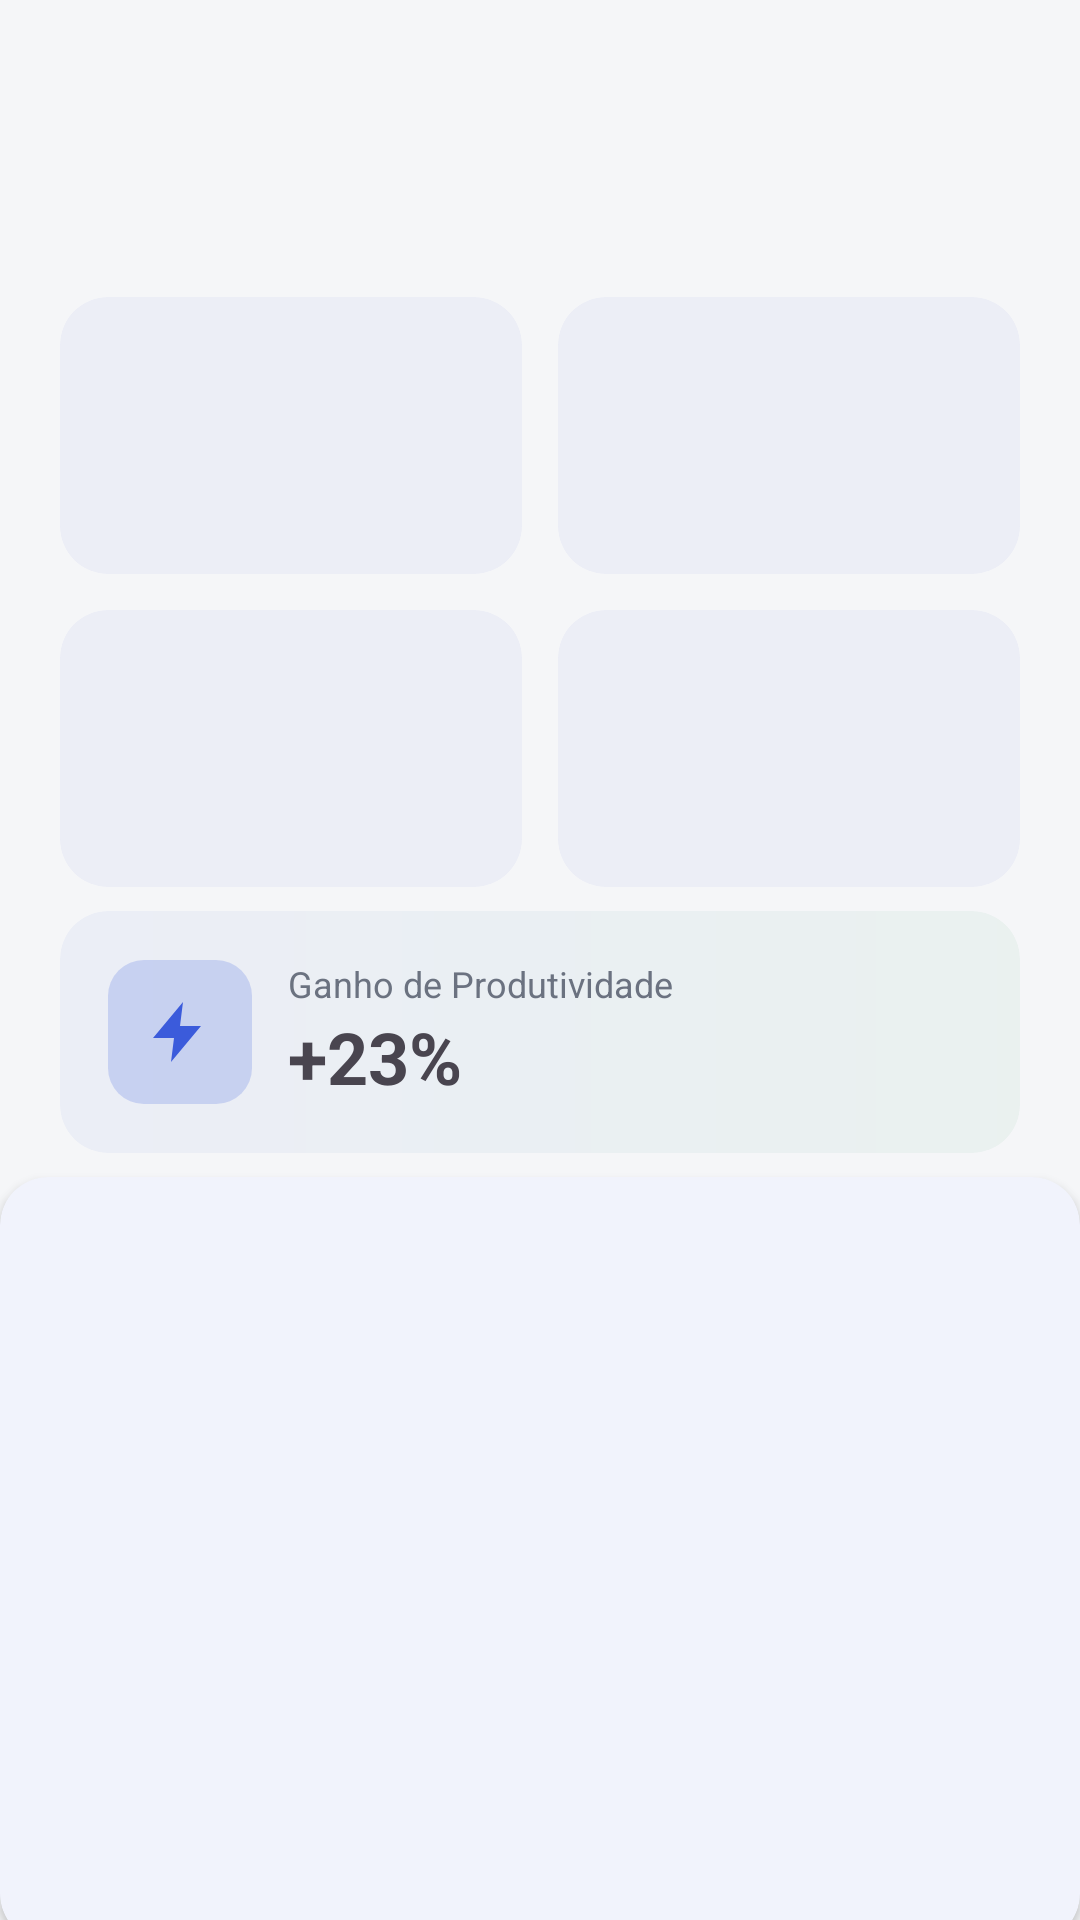

Screen size 1080px x 1920px. Icon name, then its box in pixels as (x1, y1, x2, y2):
zap: (153, 1002, 201, 1062)
